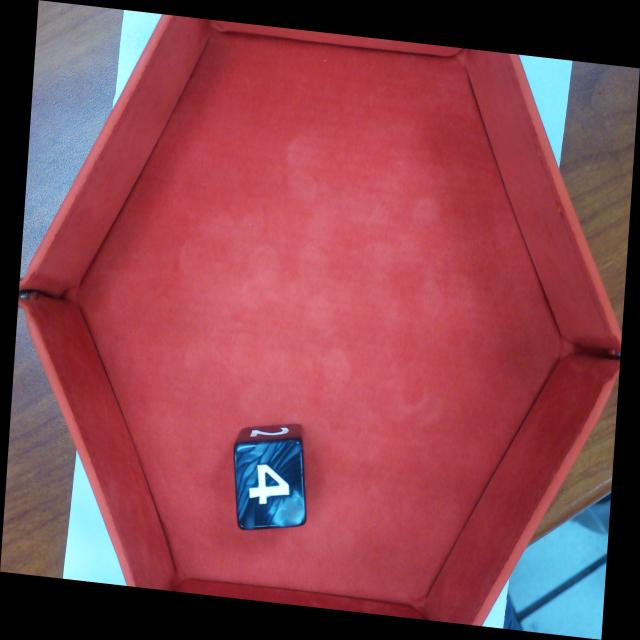dice: (235, 441, 306, 528)
